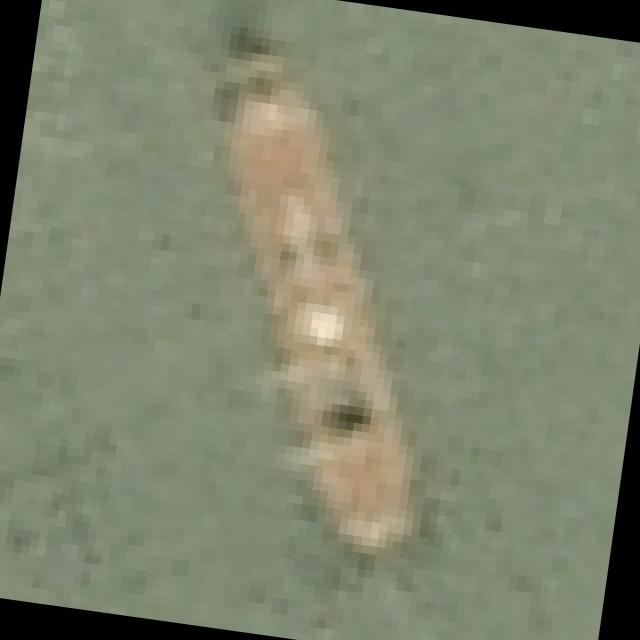ship: (86, 38, 561, 584)
